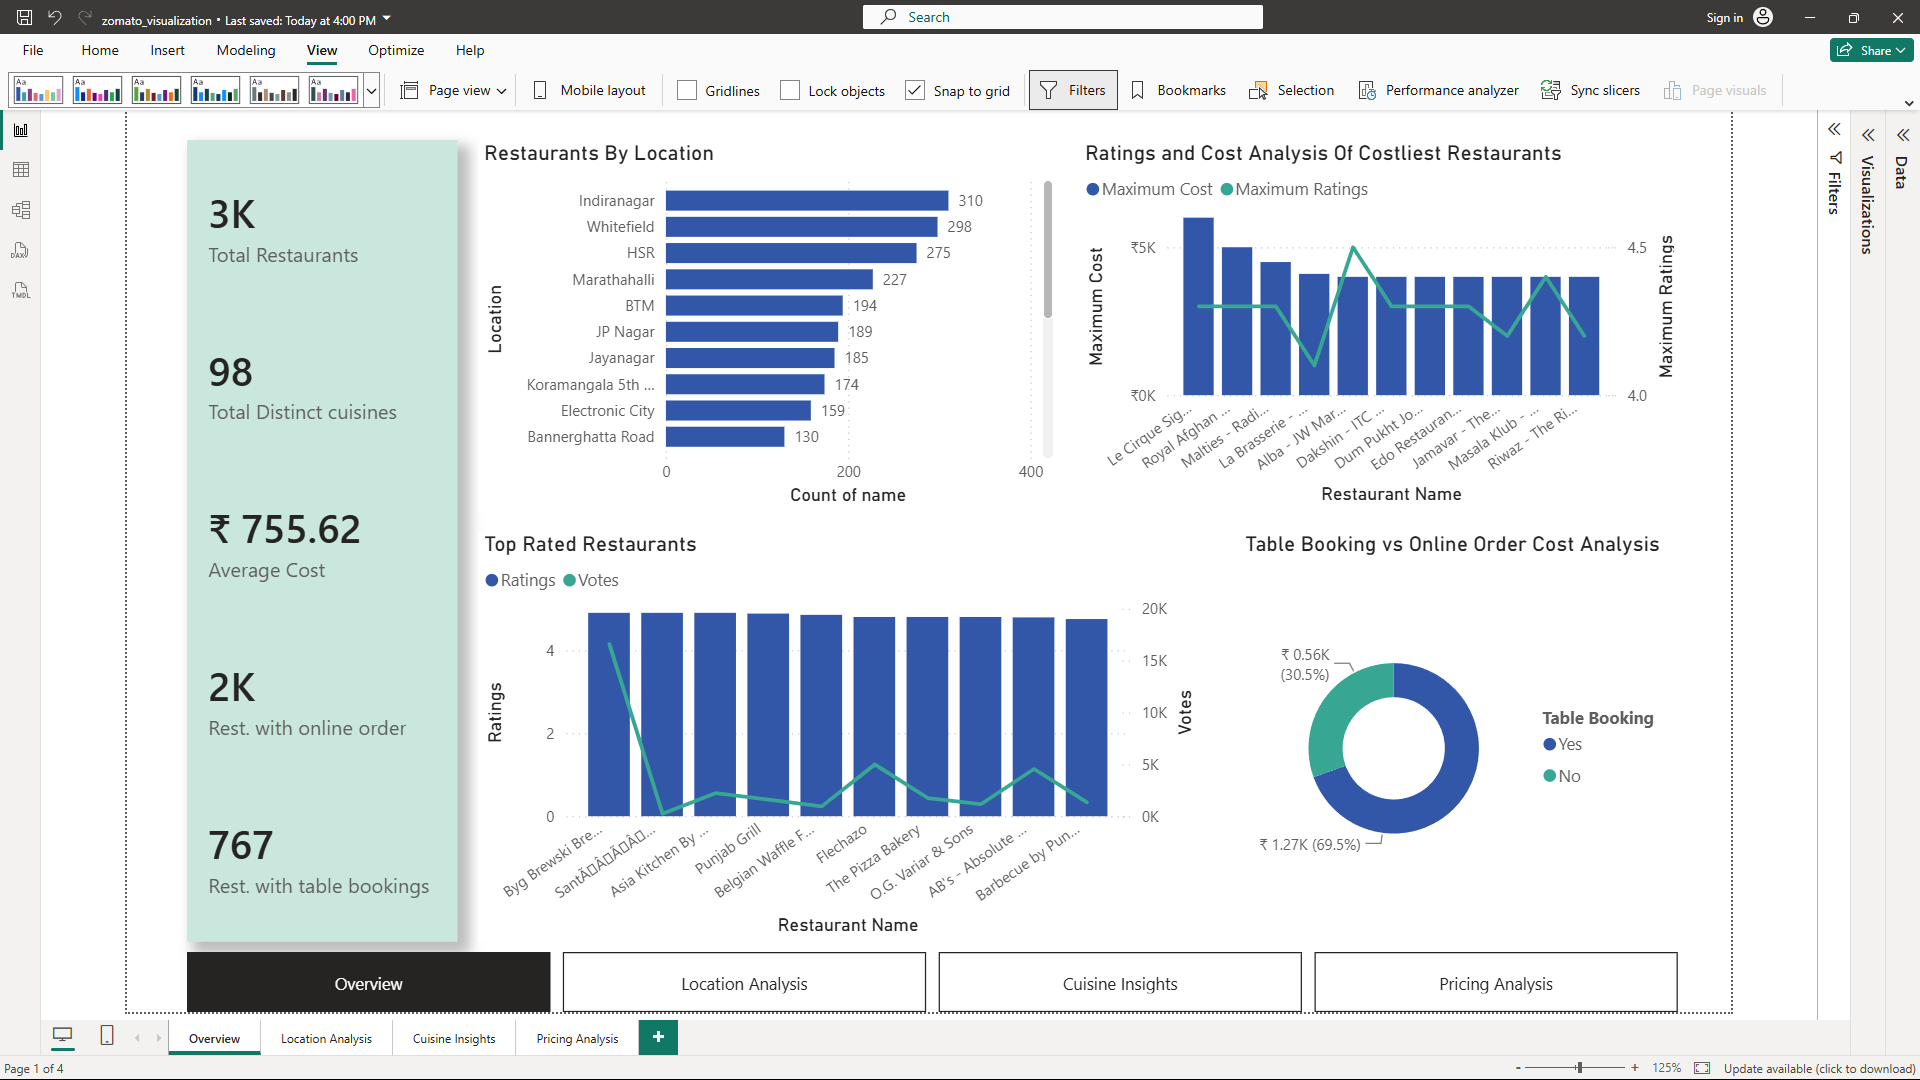

What the dashboard file says about the page in this screenshot:
{"tool":"powerbi","page":{"name":"Overview","canvas":[1280,720],"ordinal":0},"visuals":[{"type":"image","box":[0,0,1280,720],"z":0},{"type":"cardVisual","fields":{"Data":["main_table2.Total Restaurants"]},"box":[256,16,200,128],"z":1000},{"type":"clusteredBarChart","title":"Restaurants By Location","fields":{"Y":["main_table2.Total Restaurants","fact_table.Rest. with table bookings"],"Category":["main_table2.location"]},"box":[16,152,400,264],"z":2000},{"type":"lineClusteredColumnComboChart","title":"Top Rated Restaurants","fields":{"Category":["main_table2.name"],"Y":["Avg(main_table2.ratings(out of 5))"],"Y2":["Avg(main_table2.votes)"]},"box":[856,152,408,264],"z":3000},{"type":"lineStackedColumnComboChart","title":"Ratings and Cost Analysis Of Costliest Restaurants","fields":{"Category":["main_table2.name"],"Y":["Max(main_table2.cost(2 People))"],"Y2":["Max(main_table2.ratings(out of 5))"]},"box":[16,424,656,280],"z":4000},{"type":"donutChart","title":"Cost Analysis Based on Table Booking","fields":{"Category":["Zomato_cleaned_data_wihout_index.book_table"],"Y":["Avg(Zomato_cleaned_data_wihout_index.cost(2 People))"]},"box":[432,152,408,264],"z":5000},{"type":"cardVisual","fields":{"Data":["fact_table.Total cuisines"]},"box":[472,16,168,128],"z":6000},{"type":"cardVisual","fields":{"Data":["Avg(main_table2.cost(2 People))"]},"box":[928,16,336,128],"z":7000},{"type":"cardVisual","fields":{"Data":["fact_table.Rest. with table bookings"]},"box":[656,16,256,128],"z":8000},{"type":"shape","box":[16,16,224,128],"z":9000},{"type":"image","box":[16,0,224,112],"z":10000},{"type":"textbox","box":[24,88,208,40],"z":12000},{"type":"lineClusteredColumnComboChart","title":"Price and Vote Relationship In Priciest Location","fields":{"Category":["main_table2.location"],"Y":["Max(main_table2.cost(2 People))","Avg(main_table2.votes)"],"Y2":["Avg(main_table2.ratings(out of 5))"]},"box":[688,424,576,280],"z":12001}]}

Visuals, with their boxes on the page's 1280x720 design canvas (x1, y1, x2, y2). These are canvas units, not pixel positions in the 1920x1080 screenshot, which may show the page scaled, cropped or inside an application window:
image: detection(0, 0, 1280, 720)
cardVisual - main_table2.Total Restaurants: detection(256, 16, 456, 144)
"Restaurants By Location" clusteredBarChart: detection(16, 152, 416, 416)
"Top Rated Restaurants" lineClusteredColumnComboChart: detection(856, 152, 1264, 416)
"Ratings and Cost Analysis Of Costliest Restaurants" lineStackedColumnComboChart: detection(16, 424, 672, 704)
"Cost Analysis Based on Table Booking" donutChart: detection(432, 152, 840, 416)
cardVisual - fact_table.Total cuisines: detection(472, 16, 640, 144)
cardVisual - Avg(main_table2.cost(2 People)): detection(928, 16, 1264, 144)
cardVisual - fact_table.Rest. with table bookings: detection(656, 16, 912, 144)
shape: detection(16, 16, 240, 144)
image: detection(16, 0, 240, 112)
textbox: detection(24, 88, 232, 128)
"Price and Vote Relationship In Priciest Location" lineClusteredColumnComboChart: detection(688, 424, 1264, 704)
